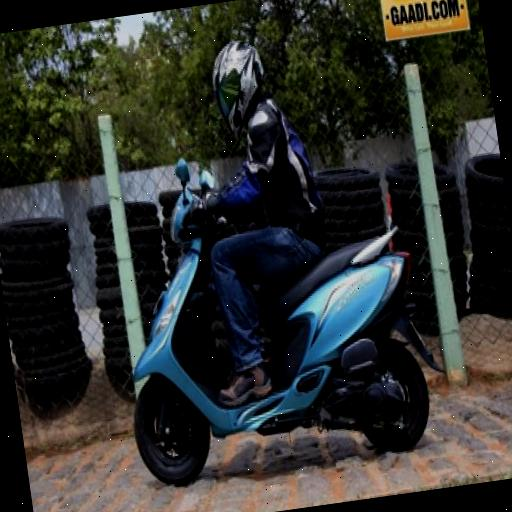helmet: (73, 0, 362, 479)
